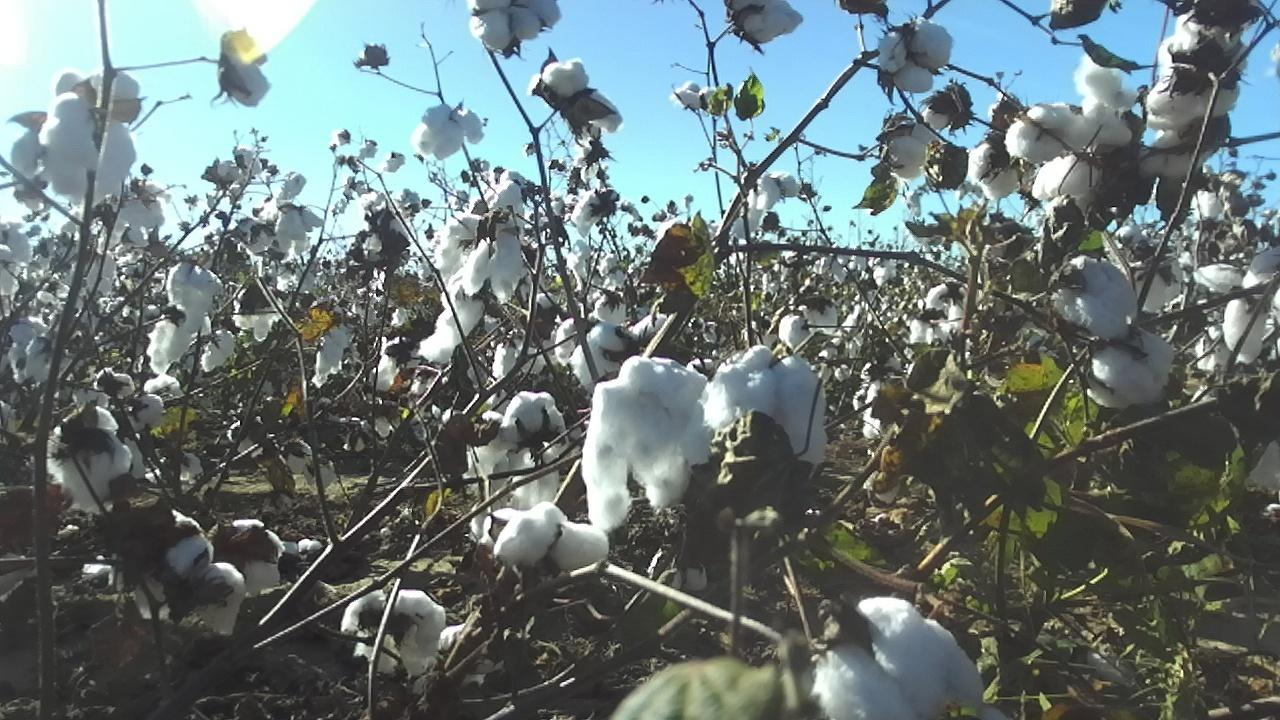cotton_ready: (584, 355, 714, 531), (813, 598, 984, 720), (705, 345, 830, 461), (446, 179, 524, 303), (47, 408, 135, 517), (343, 586, 445, 675), (486, 501, 609, 571), (138, 508, 214, 620), (1148, 38, 1247, 121), (1006, 103, 1130, 165), (529, 56, 622, 136), (37, 75, 100, 193), (1048, 254, 1136, 338), (571, 314, 671, 387), (1086, 330, 1178, 406), (463, 409, 518, 535), (89, 73, 141, 198), (875, 19, 954, 95), (417, 274, 480, 366), (165, 264, 223, 360), (213, 519, 283, 593), (1031, 156, 1103, 224), (470, 0, 560, 50), (100, 185, 168, 250), (414, 103, 485, 163), (1142, 124, 1217, 180), (271, 173, 322, 252), (499, 393, 566, 450), (1074, 57, 1142, 111), (223, 33, 270, 110), (192, 563, 239, 638), (966, 140, 1019, 205), (510, 443, 562, 506), (1223, 295, 1268, 363), (778, 299, 839, 348), (13, 128, 49, 211), (736, 0, 805, 43), (1245, 240, 1280, 320), (1133, 258, 1184, 312), (231, 287, 282, 341), (889, 123, 936, 179), (1179, 0, 1240, 39), (1244, 443, 1280, 495), (556, 317, 583, 364)
